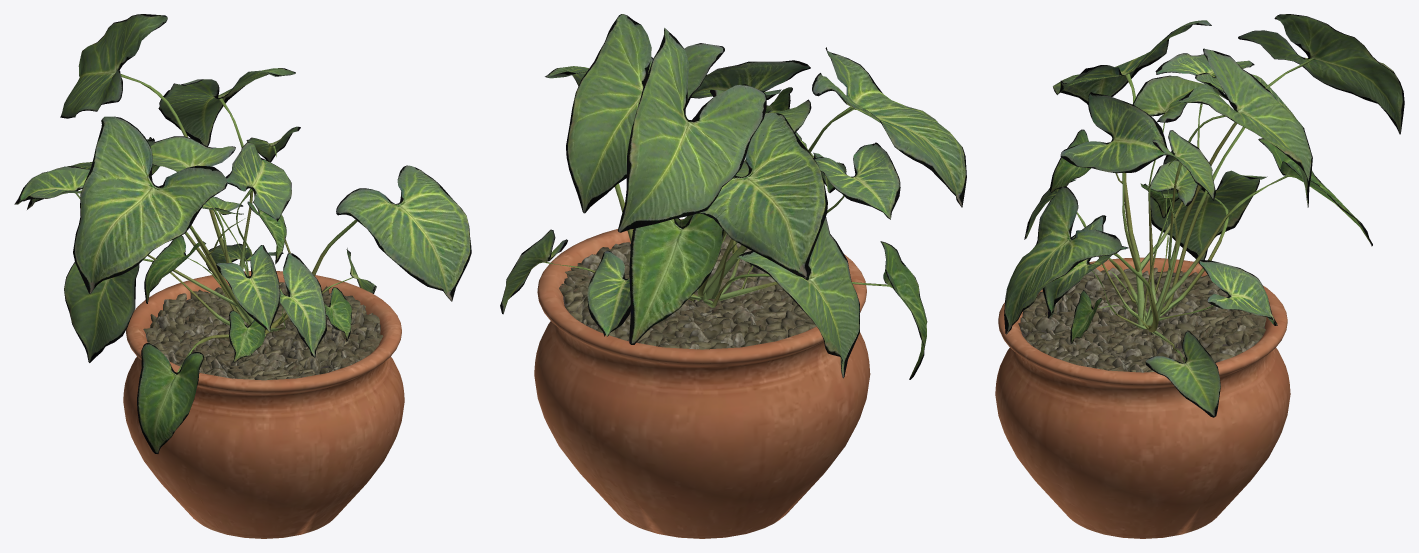
Rendered from potted_plant_02.glb.
The picture shows the model from 3 angles, left to right: view 1: azimuth 30°, elevation 25°; view 2: azimuth 150°, elevation 25°; view 3: azimuth 270°, elevation 25°; orthographic projection. The views are drawn at different scales.
Visible parts, largest first — view 1: potted_plant_02_leaves, potted_plant_02_pot; view 2: potted_plant_02_leaves, potted_plant_02_pot; view 3: potted_plant_02_pot, potted_plant_02_leaves.
Boxes of the visible parts, x1=… form: potted_plant_02_leaves: x1=14, y1=14, x2=471, y2=453; potted_plant_02_pot: x1=123, y1=271, x2=404, y2=538; potted_plant_02_leaves: x1=500, y1=14, x2=966, y2=379; potted_plant_02_pot: x1=534, y1=219, x2=870, y2=538; potted_plant_02_pot: x1=995, y1=257, x2=1290, y2=538; potted_plant_02_leaves: x1=1004, y1=14, x2=1404, y2=417.
Bounding box in the file's own units: 0.7009 × 0.8412 × 0.6574.
2 materials, 2 textured.
